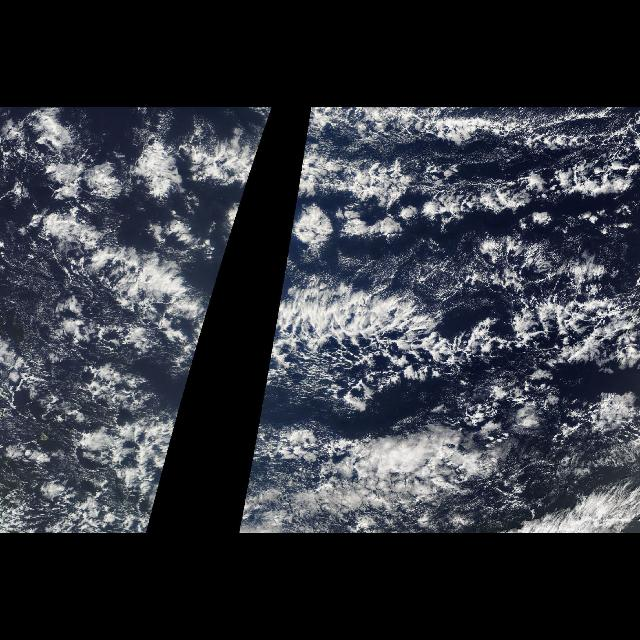Fish: (262, 124, 638, 406), (29, 124, 268, 406)
Flower: (50, 139, 264, 245), (286, 139, 462, 245)
